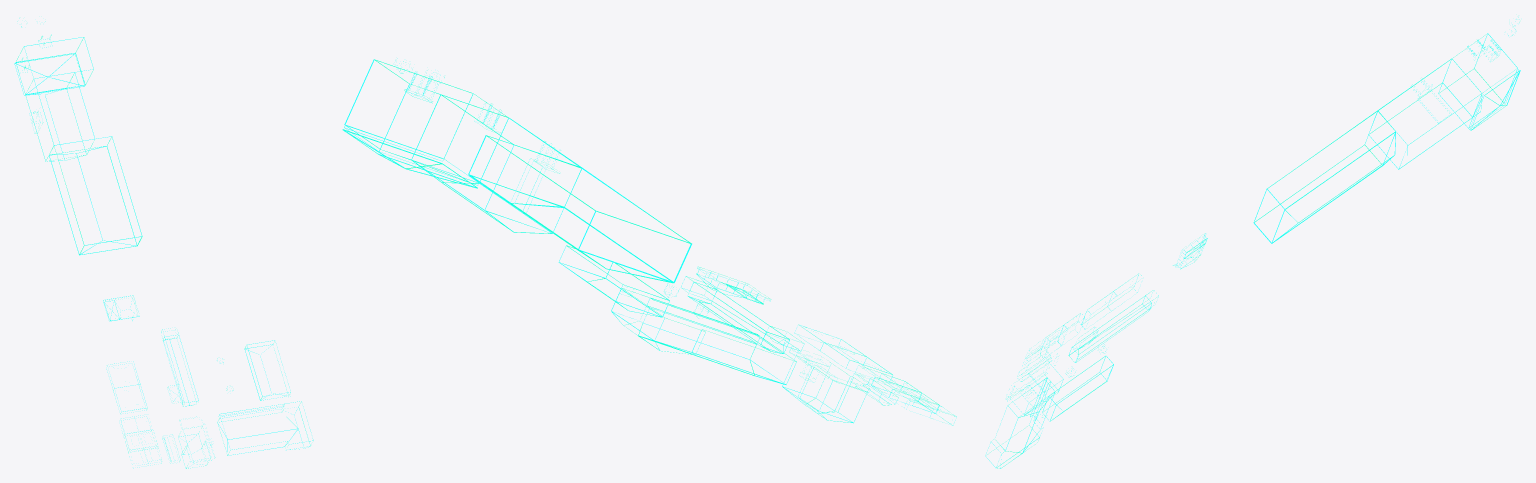
3 views of the same model, side by side, from view 1: azimuth 30°, elevation 25°; view 2: azimuth 150°, elevation 25°; view 3: azimuth 270°, elevation 25° (orthographic). The views are drawn at different scales.
Visible parts, largest first — view 1: SketchUp.025; view 2: SketchUp.025; view 3: SketchUp.025.
Part boxes in pixels (x1,y1,x2,y2): SketchUp.025: [14, 18, 313, 468]; SketchUp.025: [342, 58, 956, 425]; SketchUp.025: [985, 17, 1520, 468].
Bounding box in the file's own units: 4.44 × 7.76 × 9.36.
